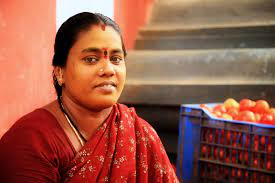person: (53, 11, 126, 111)
